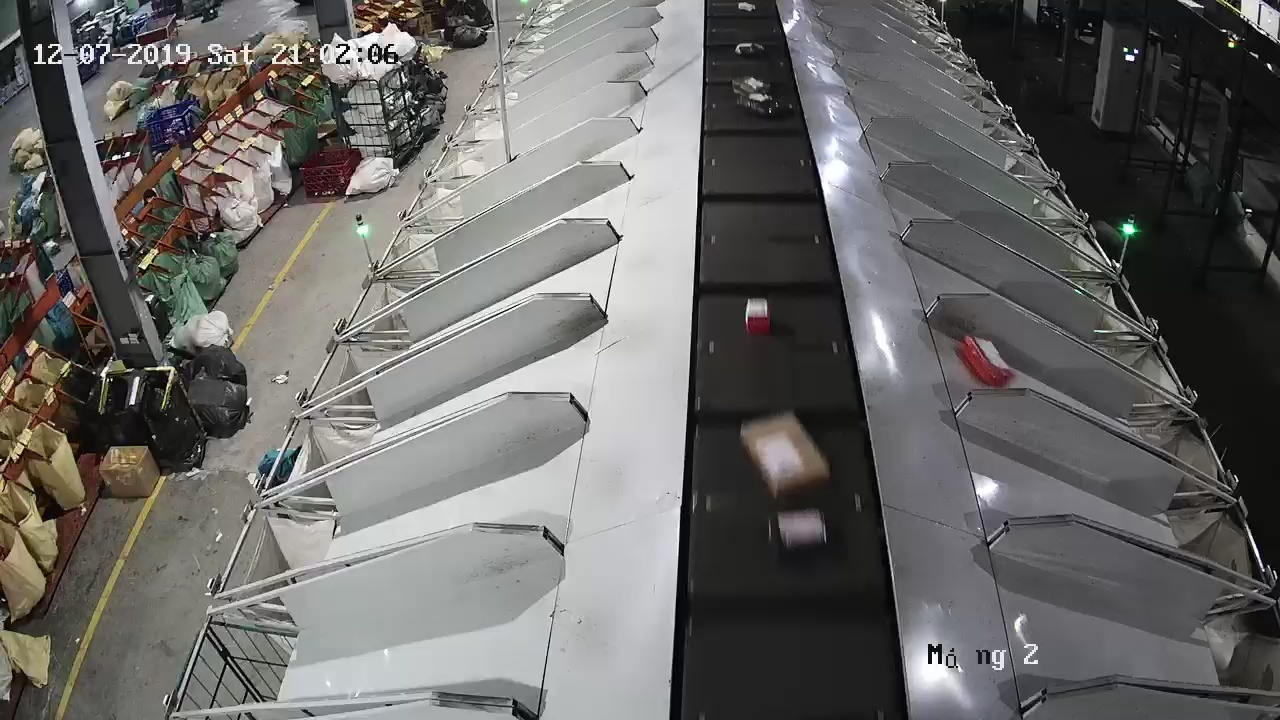parcel: (954, 334, 1015, 388)
